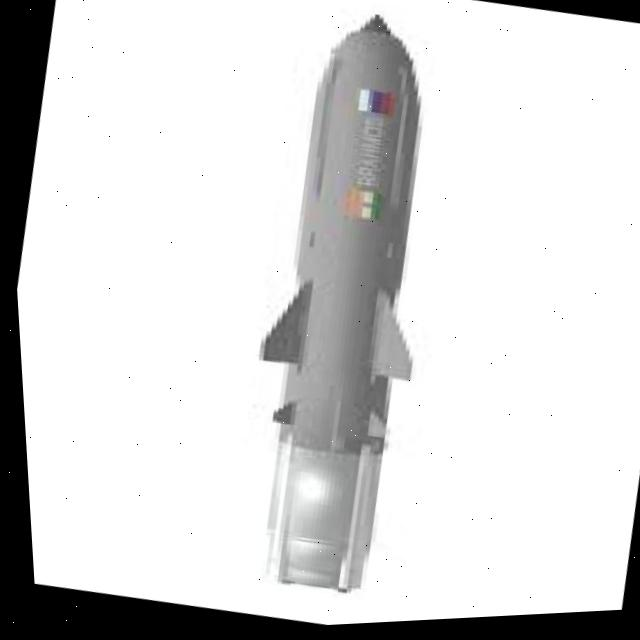missile: (196, 0, 498, 615)
